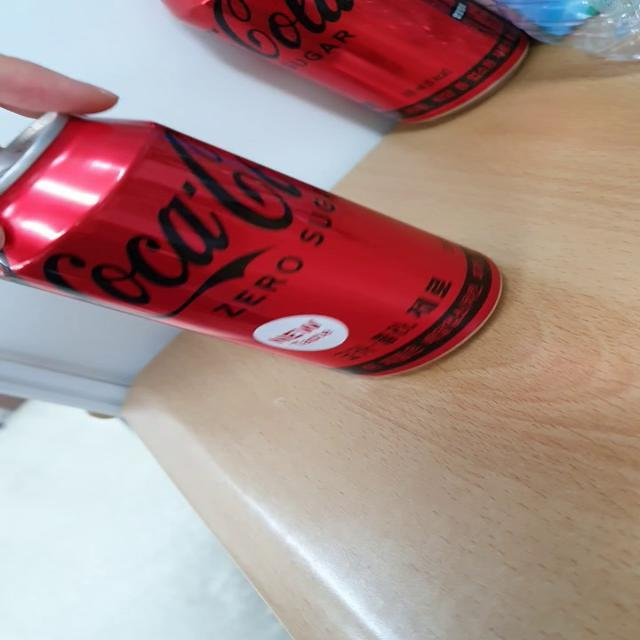coca-cola: (1, 99, 522, 422)
